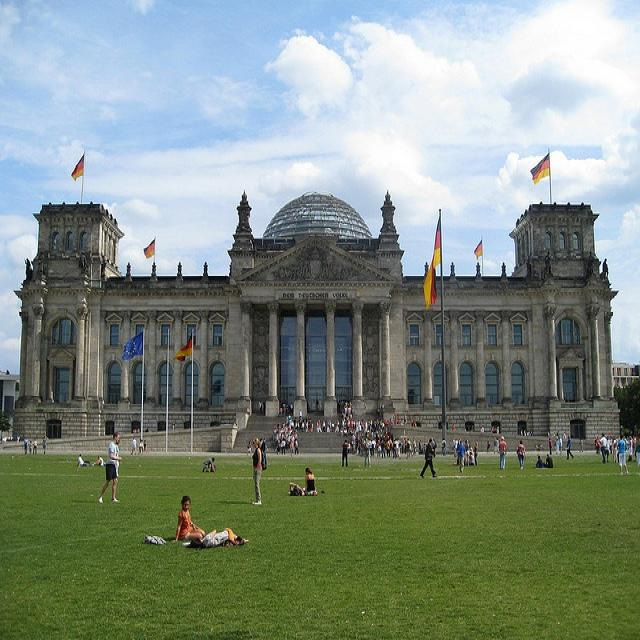body: (269, 398, 569, 466), (542, 248, 611, 283), (274, 252, 357, 280), (95, 428, 123, 503), (593, 430, 640, 470), (172, 493, 207, 544), (184, 524, 250, 551), (123, 418, 152, 458), (249, 435, 263, 505), (418, 434, 438, 478), (615, 430, 631, 474), (303, 465, 318, 496), (20, 256, 33, 289), (75, 248, 90, 276), (515, 438, 527, 471), (497, 434, 508, 470), (455, 438, 466, 474), (113, 436, 121, 479), (598, 432, 608, 464), (201, 454, 217, 474), (23, 437, 39, 456), (258, 436, 266, 471), (260, 436, 268, 471), (340, 437, 349, 468), (101, 396, 130, 405), (565, 433, 574, 460), (0, 432, 20, 444), (603, 436, 611, 464), (77, 452, 90, 469), (128, 435, 137, 457), (542, 452, 554, 468), (255, 397, 265, 416), (490, 434, 499, 454), (92, 453, 104, 467), (439, 436, 447, 457), (546, 435, 553, 456), (246, 438, 253, 458), (41, 433, 47, 456), (554, 434, 560, 454), (557, 436, 563, 455), (168, 420, 178, 431), (578, 435, 584, 453)
